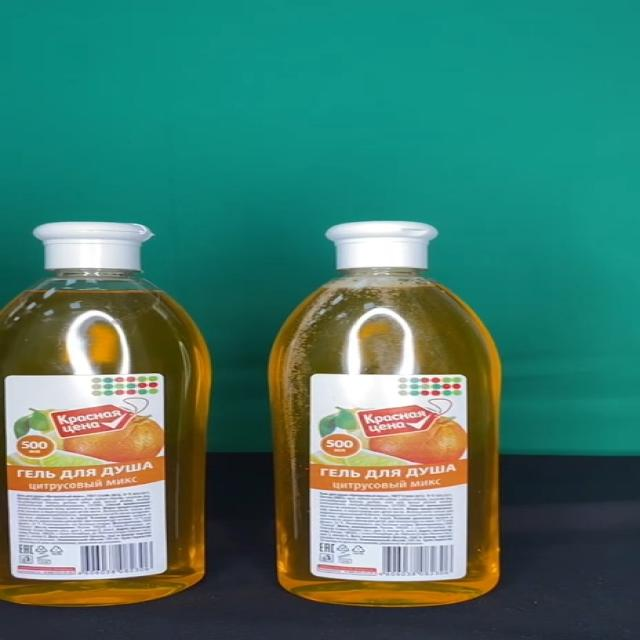Bottle: (272, 222, 502, 608), (0, 220, 213, 608)
Cap: (33, 222, 153, 270), (326, 221, 440, 268)
